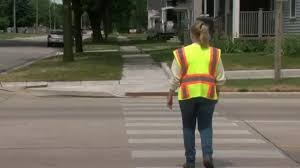car: (47, 29, 63, 46)
crosswalk: (121, 96, 184, 167), (213, 112, 283, 167), (195, 124, 203, 167)
person: (167, 21, 225, 167)
pole: (274, 0, 283, 80), (63, 0, 73, 61), (72, 1, 82, 51)
vegetation: (1, 52, 123, 81), (222, 47, 272, 70), (222, 77, 299, 91), (149, 48, 173, 65), (282, 54, 299, 68), (224, 54, 238, 65)
